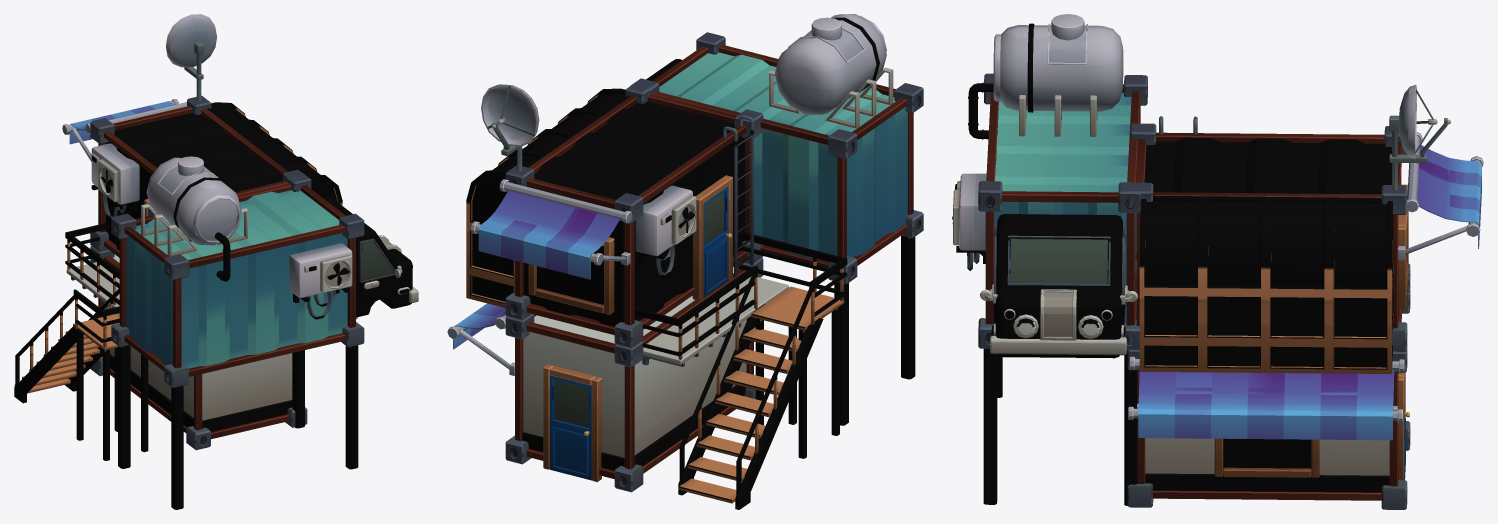
The model's file is house4.fbx.
3 renders of one model, left to right at view 1: azimuth 30°, elevation 25°; view 2: azimuth 150°, elevation 25°; view 3: azimuth 270°, elevation 25°, orthographic. The views are drawn at different scales.
Parts seen in each view (by area): view 1: finb_house_09.001; view 2: finb_house_09.001; view 3: finb_house_09.001.
Boxes of the visible parts, x1,y1,x2,y2 form: finb_house_09.001: (14, 14, 418, 509); finb_house_09.001: (447, 14, 923, 509); finb_house_09.001: (952, 14, 1483, 509).
Size of the model in its own units: 668 by 823 by 949.
Materials: 1 (1 with a texture image).
